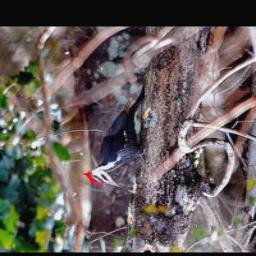Woodpecker: (78, 83, 147, 189)
